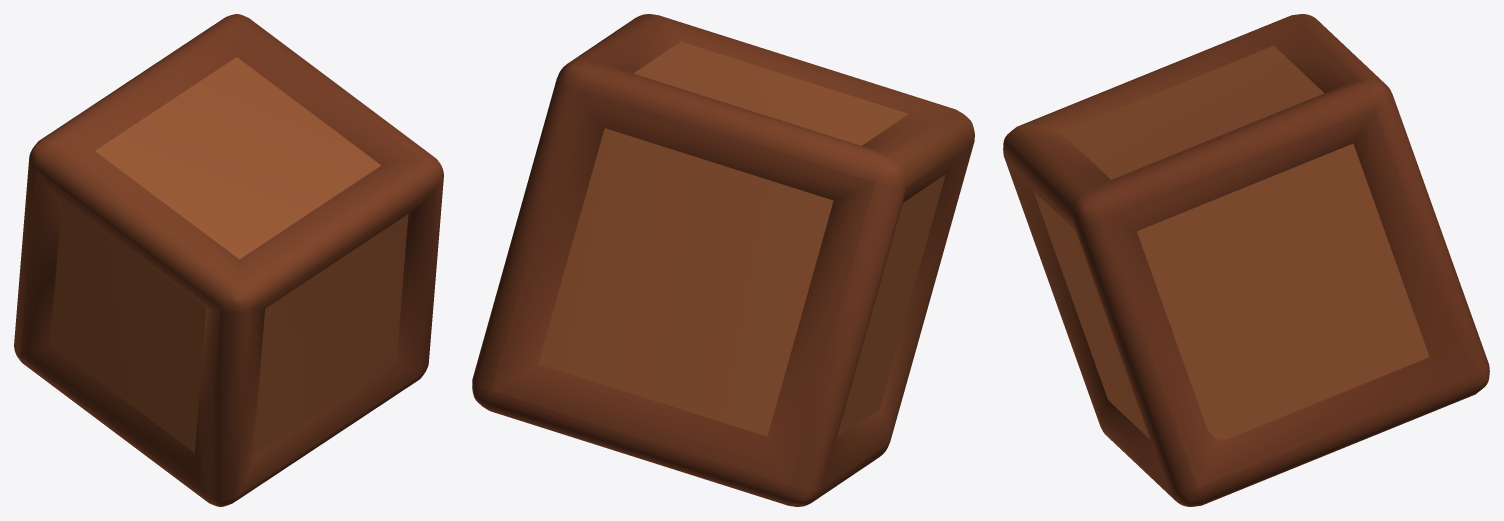
Rendered from küp.fbx.
The picture shows the model from 3 angles, left to right: view 1: azimuth 30°, elevation 25°; view 2: azimuth 150°, elevation 25°; view 3: azimuth 270°, elevation 25°; orthographic projection. The views are drawn at different scales.
Visible parts, largest first — view 1: land_11.047; view 2: land_11.047; view 3: land_11.047.
Part boxes in pixels (x1,y1,x2,y2): land_11.047: (14, 14, 443, 506); land_11.047: (472, 14, 974, 506); land_11.047: (1003, 14, 1489, 506).
Bounding box in the file's own units: 182 × 190 × 196.
